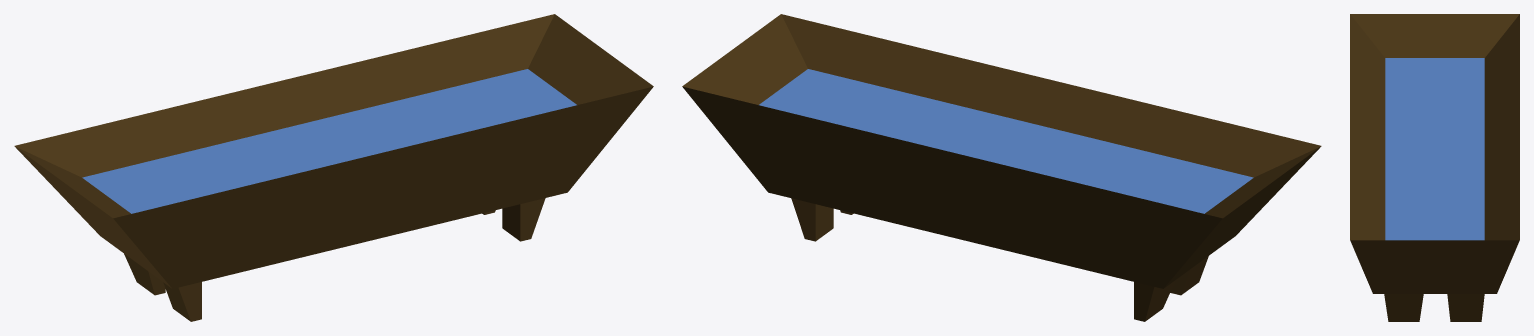
Rendered from drinker.fbx.
The picture shows the model from 3 angles, left to right: view 1: azimuth 30°, elevation 25°; view 2: azimuth 150°, elevation 25°; view 3: azimuth 270°, elevation 25°; orthographic projection. The views are drawn at different scales.
Visible parts, largest first — view 1: drinker; view 2: drinker; view 3: drinker.
Boxes of the visible parts, x1=… form: drinker: x1=14, y1=14, x2=653, y2=321; drinker: x1=682, y1=14, x2=1321, y2=321; drinker: x1=1350, y1=14, x2=1519, y2=321.
Size of the model in its own units: 273 by 69.72 by 86.67.
